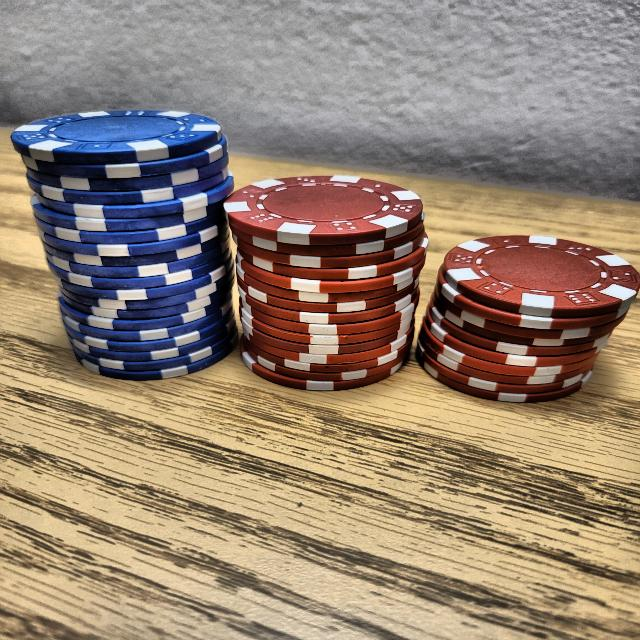Chip: (18, 95, 260, 397), (218, 144, 434, 413), (414, 210, 634, 422)
